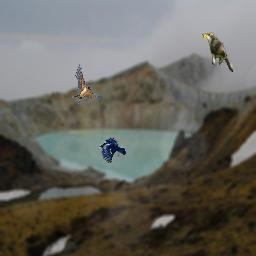Crow: (99, 137, 126, 163)
Cuckoo: (202, 32, 233, 72)
Swallow: (72, 64, 101, 104)
